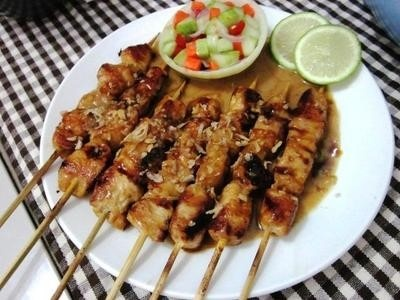sate: (20, 49, 304, 280)
